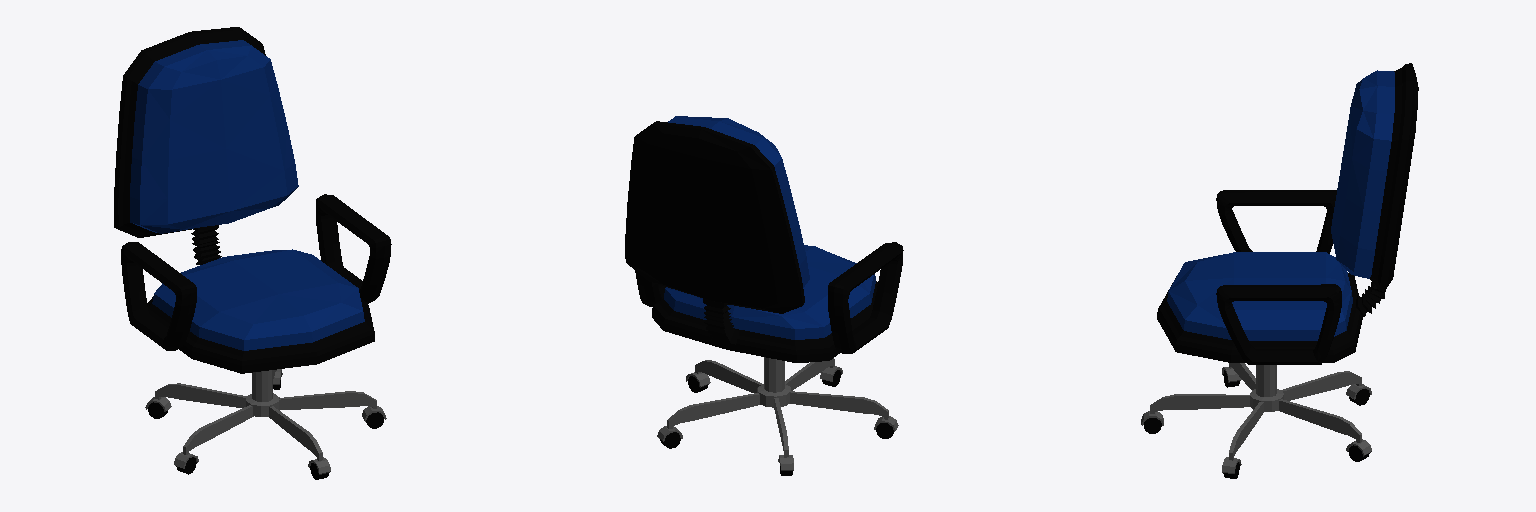
The model's file is ChairOBJ.obj.
The picture shows the model from 3 angles: view 1: azimuth 30°, elevation 25°; view 2: azimuth 150°, elevation 25°; view 3: azimuth 270°, elevation 25°; orthographic projection.
Visible parts, largest first — view 1: OfficeChair; view 2: OfficeChair; view 3: OfficeChair.
Boxes of the visible parts, box(x1,y1,x2,y2) form: OfficeChair: box(114, 27, 391, 479); OfficeChair: box(625, 116, 903, 475); OfficeChair: box(1141, 63, 1418, 478).
Size of the model in its own units: 0.854 by 1.33 by 0.9552.